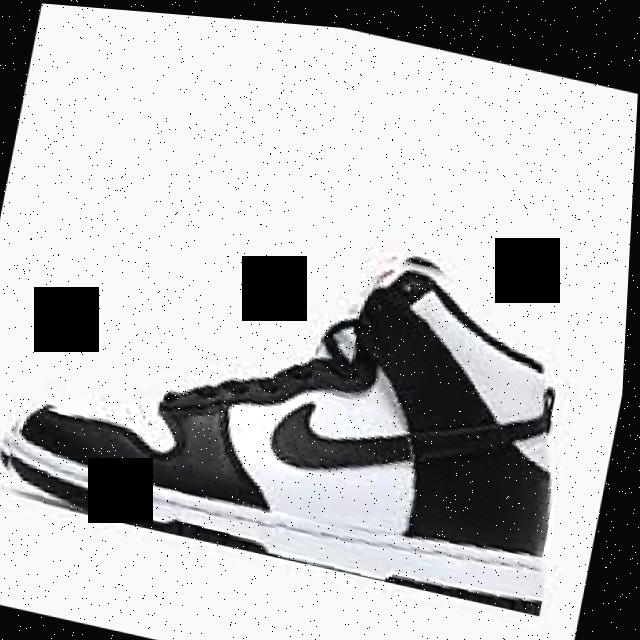shoe: (0, 165, 608, 609)
